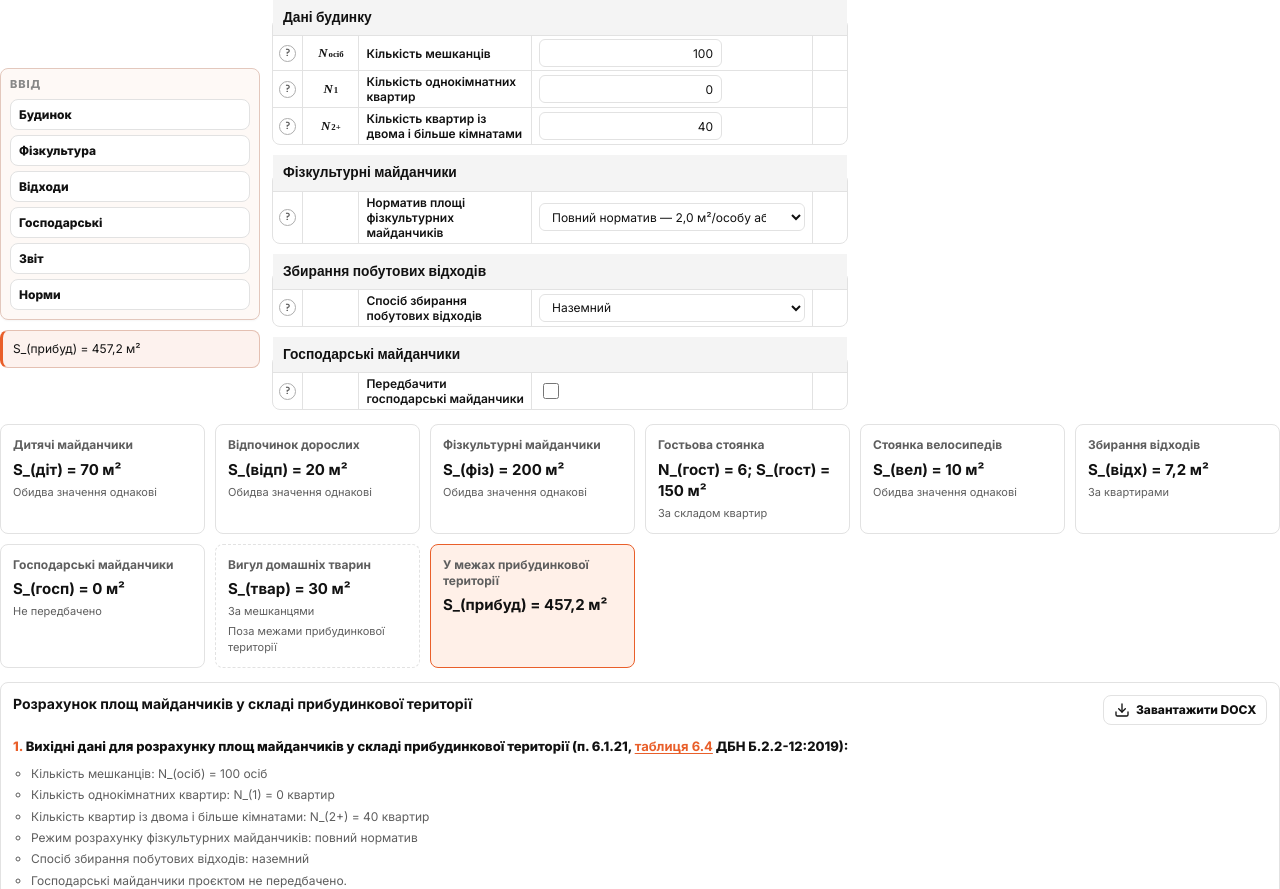
Test: ResidentialYardAreasCalculator › normalizes an are input and reports the selected unit conversion
The image size is (1280, 889).
Select "Вакуумний" in the dropdown labelled "Спосіб збирання побутових відходів" at (672, 308), box [539, 294, 805, 322]
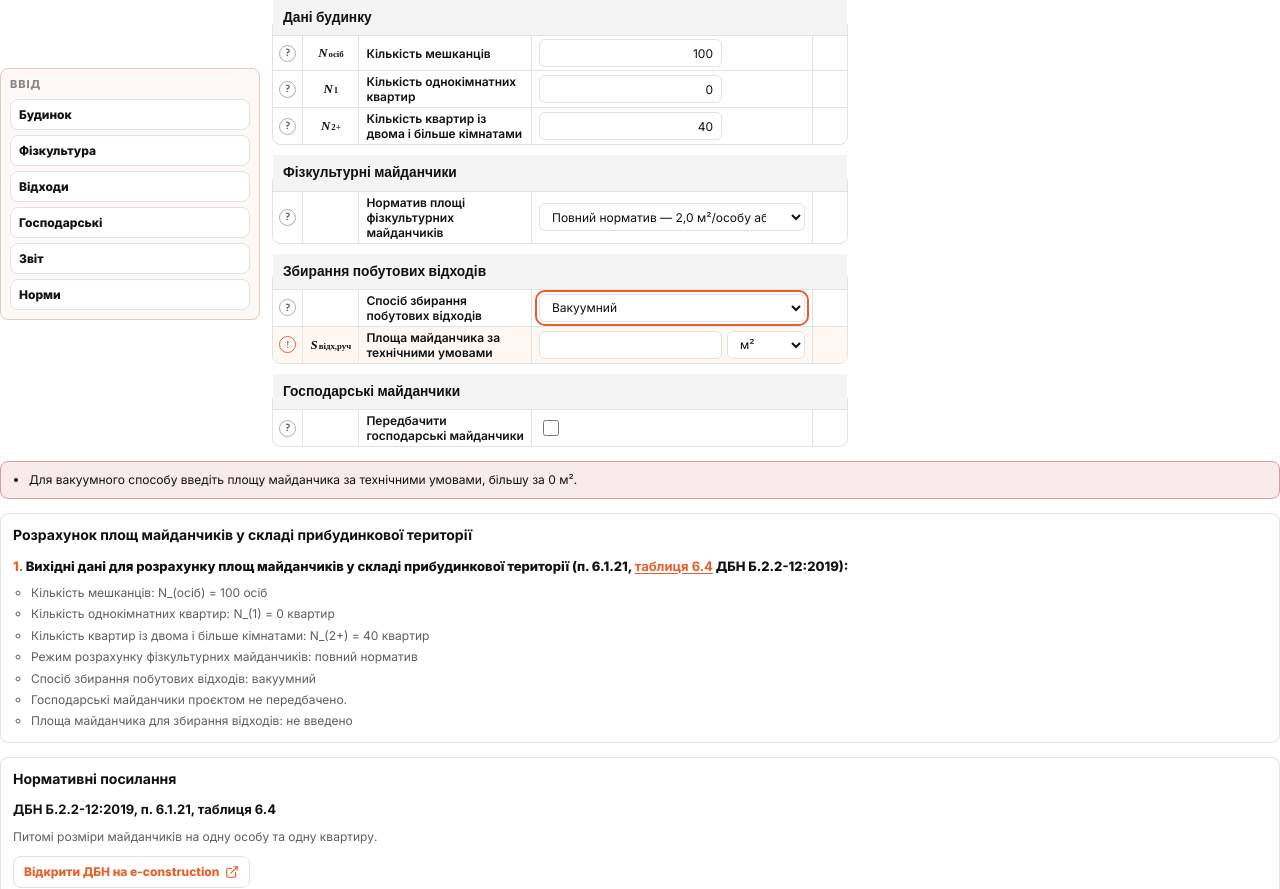
Select "ар" in the dropdown named "Одиниця Площа майданчика за технічними умовами" at (766, 345), box [727, 331, 805, 359]
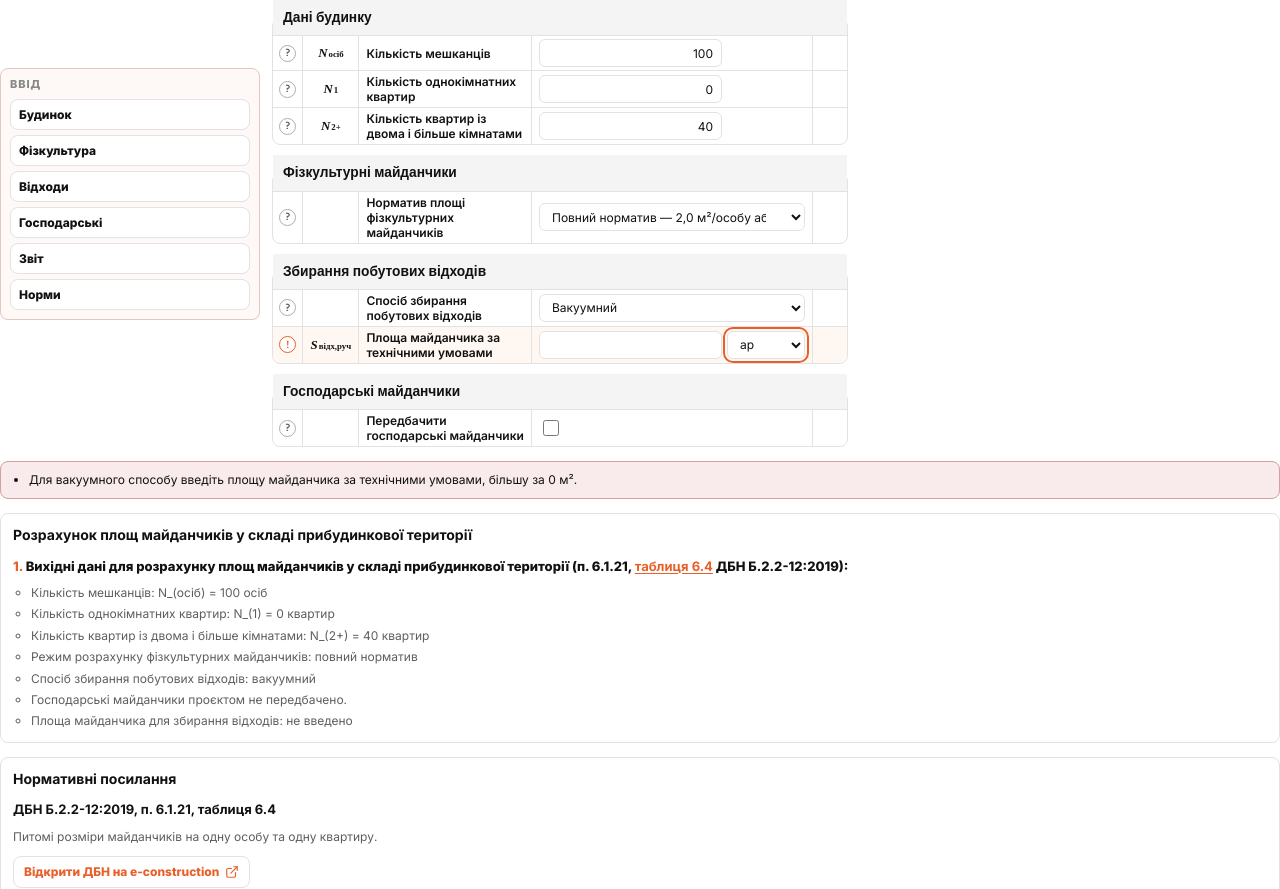
Type "0,08" into the field labelled "Площа майданчика за технічними умовами" at (630, 345), box [539, 331, 722, 359]
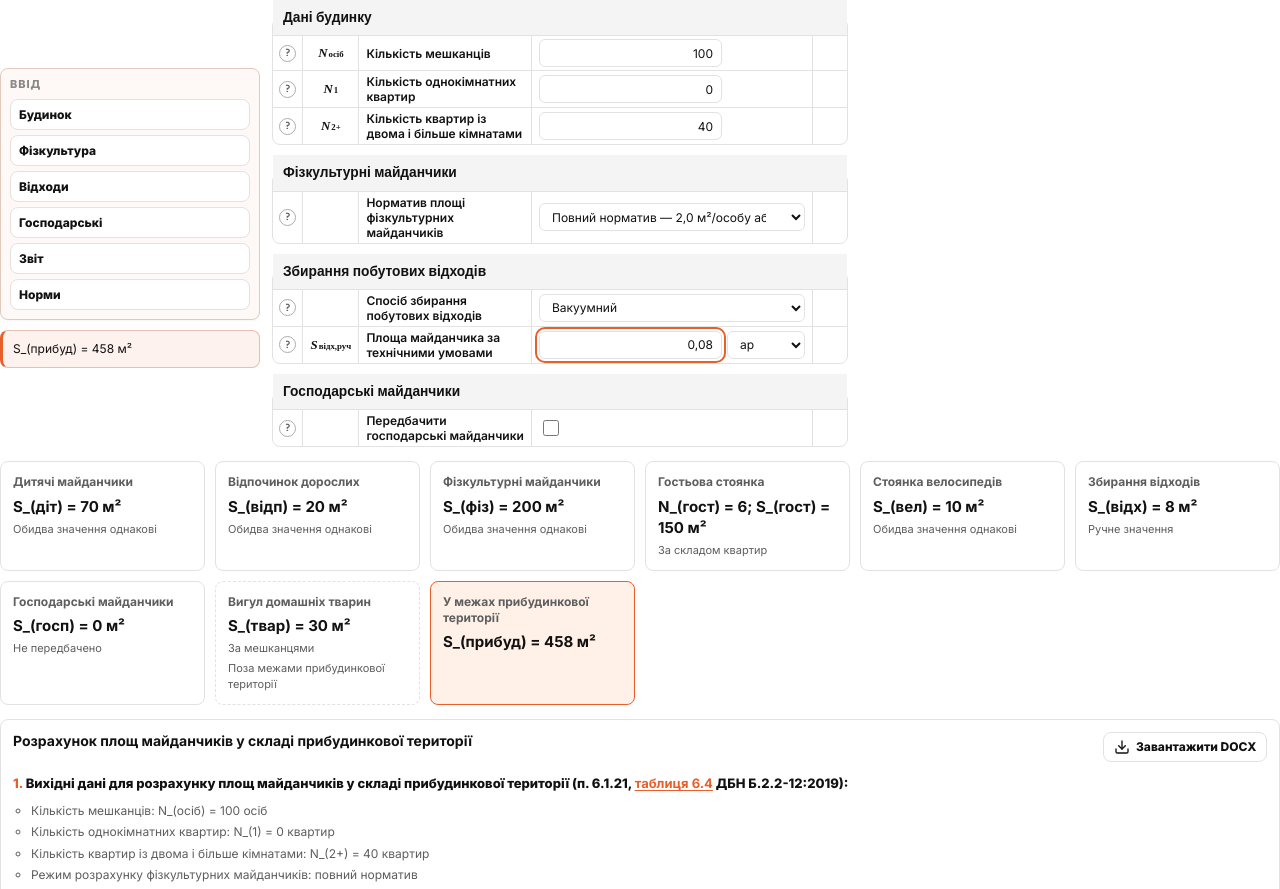
Check: the text "S_(відх) = 8 м²" is shown, box [1088, 496, 1197, 516]
